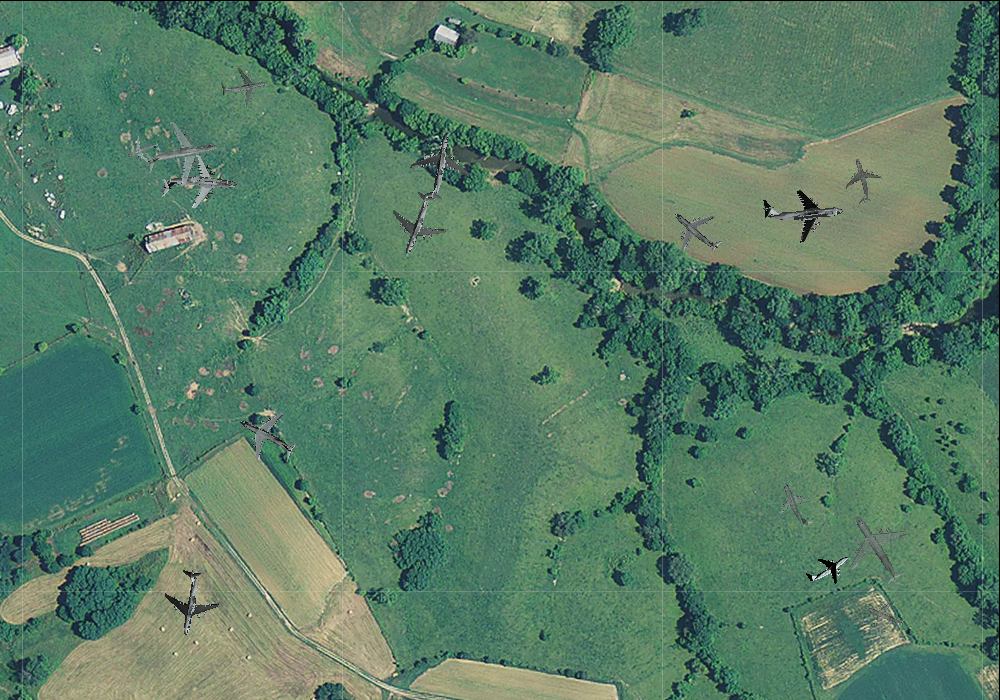plane: (825, 497, 927, 600), (138, 113, 223, 195), (759, 172, 846, 249), (226, 396, 307, 477), (377, 183, 456, 263), (157, 148, 238, 221), (659, 193, 734, 268), (402, 128, 475, 204), (152, 565, 225, 640), (767, 474, 825, 535), (798, 540, 857, 597), (835, 152, 888, 207), (216, 60, 270, 112), (859, 590, 911, 641), (120, 129, 164, 172)
